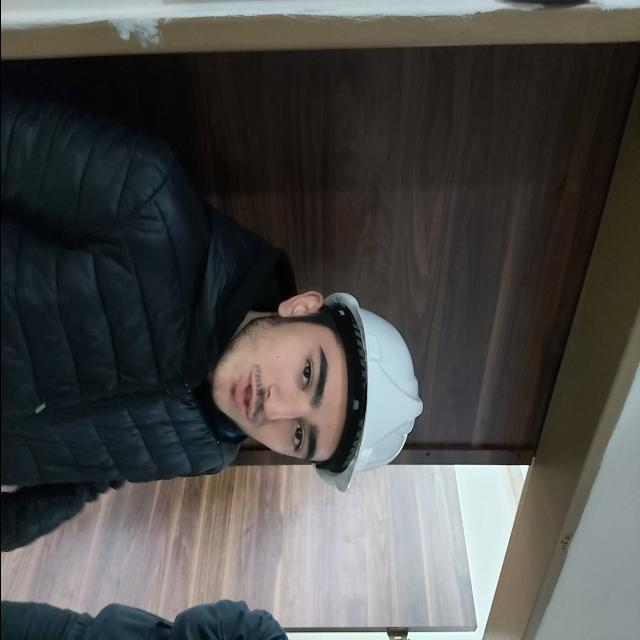helmet: (315, 292, 422, 490)
